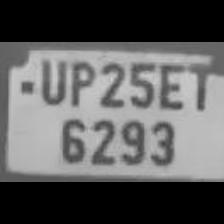2: (93, 58, 125, 110), (87, 113, 115, 167)
3: (144, 113, 178, 167)
5: (124, 58, 156, 108)
6: (54, 114, 88, 166)
9: (116, 114, 146, 166)
E: (155, 59, 185, 109)
P: (65, 56, 95, 108)
T: (185, 57, 217, 113)
U: (36, 54, 66, 106)
